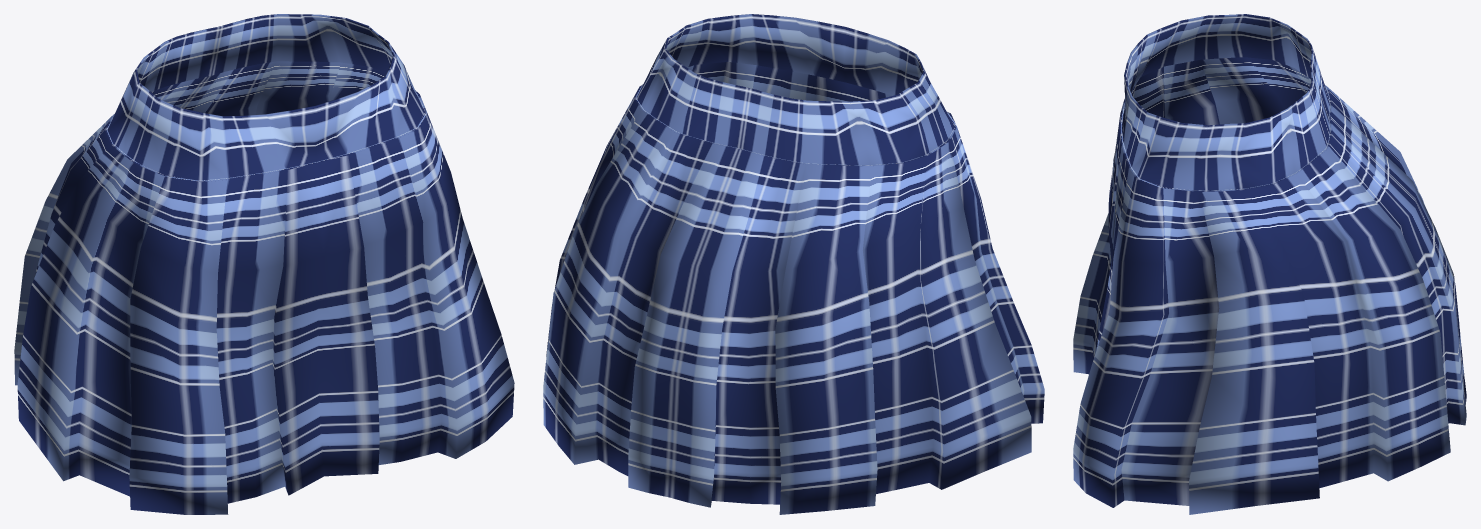
Rendered from skirt1.fbx.
3 renders of one model, left to right at view 1: azimuth 30°, elevation 25°; view 2: azimuth 150°, elevation 25°; view 3: azimuth 270°, elevation 25°, orthographic. The views are drawn at different scales.
Visible parts, largest first — view 1: カスタム少女_mesh; view 2: カスタム少女_mesh; view 3: カスタム少女_mesh.
Part boxes in pixels (<box>): カスタム少女_mesh: <box>14,14,514,514</box>; カスタム少女_mesh: <box>543,14,1044,514</box>; カスタム少女_mesh: <box>1073,14,1466,514</box>.
Size of the model in its own units: 40.86 by 33.44 by 32.73.
2 materials, 2 textured.
